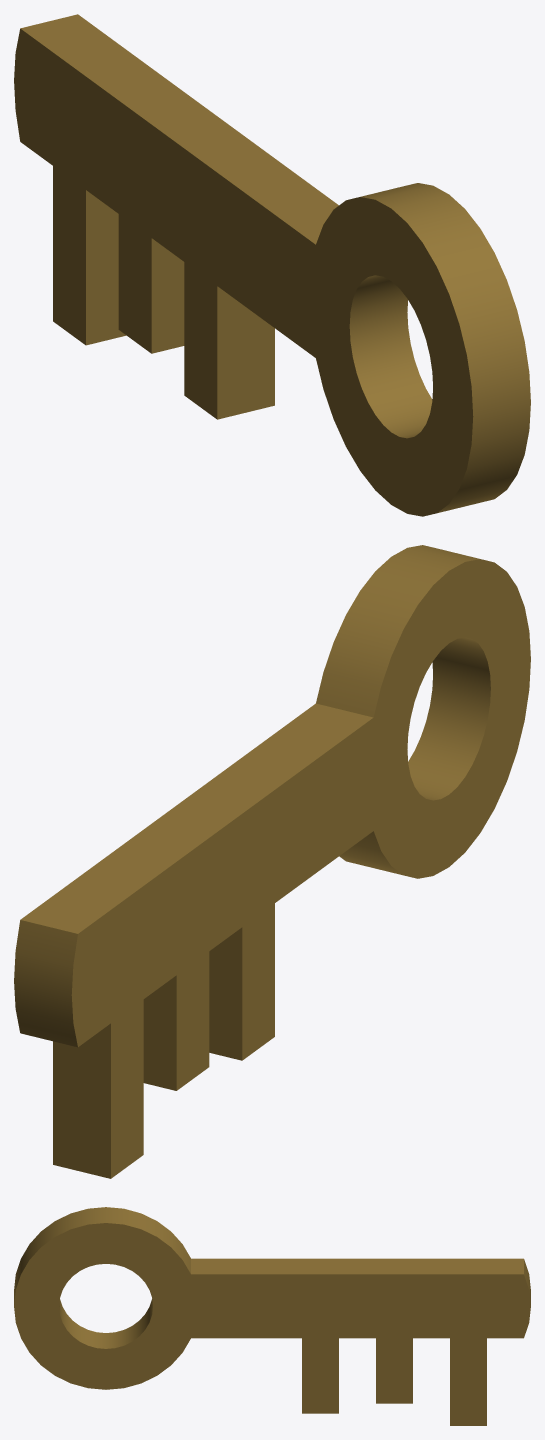
File: avain.fbx
3 renders of one model, top to bottom at view 1: azimuth 30°, elevation 25°; view 2: azimuth 150°, elevation 25°; view 3: azimuth 270°, elevation 25°, orthographic. The views are drawn at different scales.
Parts seen in each view (by area): view 1: Cylinder; view 2: Cylinder; view 3: Cylinder.
Part boxes in pixels (x1,y1,x2,y2): Cylinder: (14,14,530,516); Cylinder: (14,545,530,1178); Cylinder: (14,1207,530,1425).
Size of the model in its own units: 57.12 by 341 by 786.
